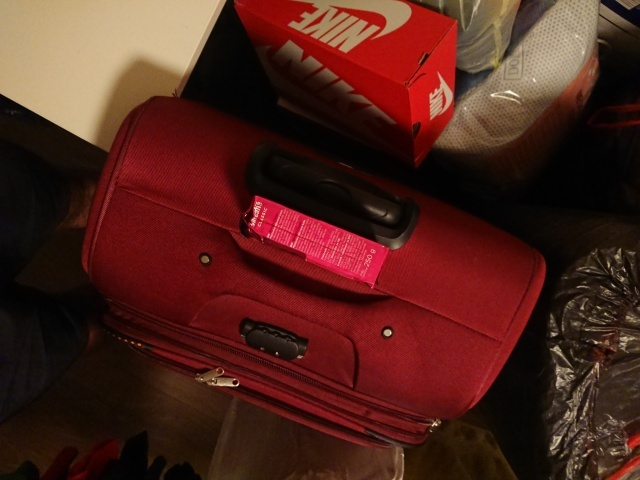Barcaffe Classic Original 225g: (238, 191, 395, 293)
